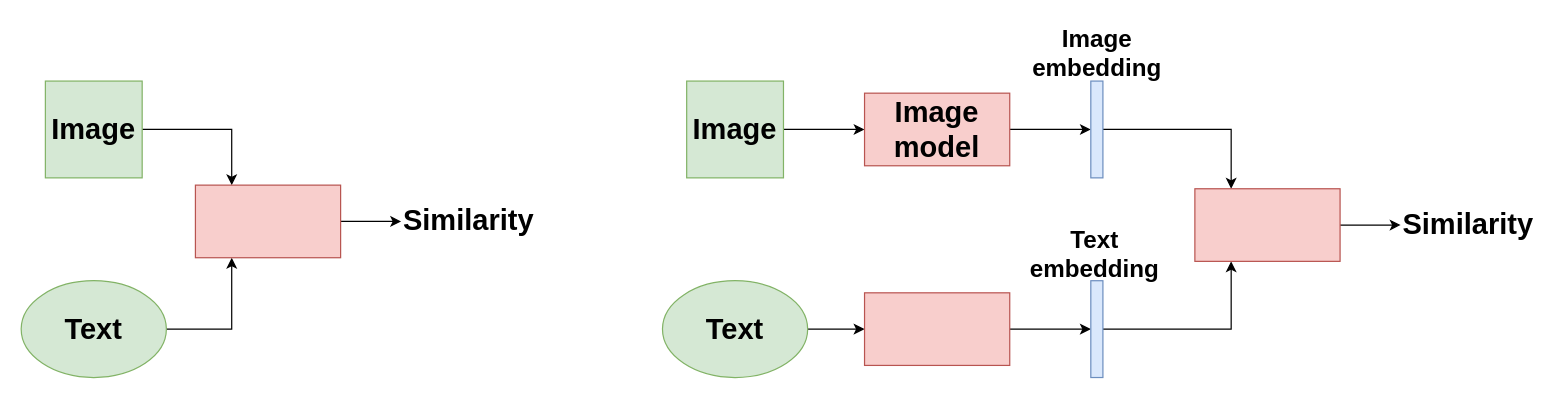
Some shapes in this 1567 by 399 pixel diagram are drawn without their labels. The centre of each missing label's shape, as x and y in pixels:
Distance: [1267,224]
Model: [267,221]
Text model: [936,328]
